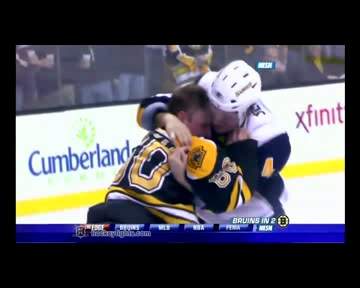normal: (82, 55, 290, 224)
